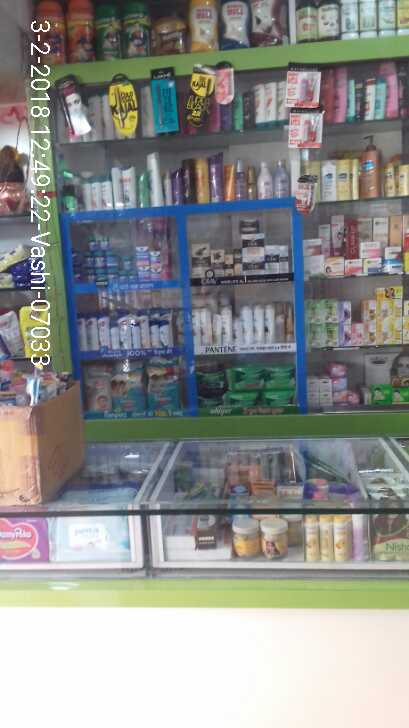beauty: (181, 219, 300, 275), (72, 304, 183, 349), (189, 295, 286, 344)
pharmacy: (70, 231, 170, 281), (145, 355, 179, 411), (110, 362, 144, 410), (228, 364, 265, 391), (264, 365, 297, 391)
